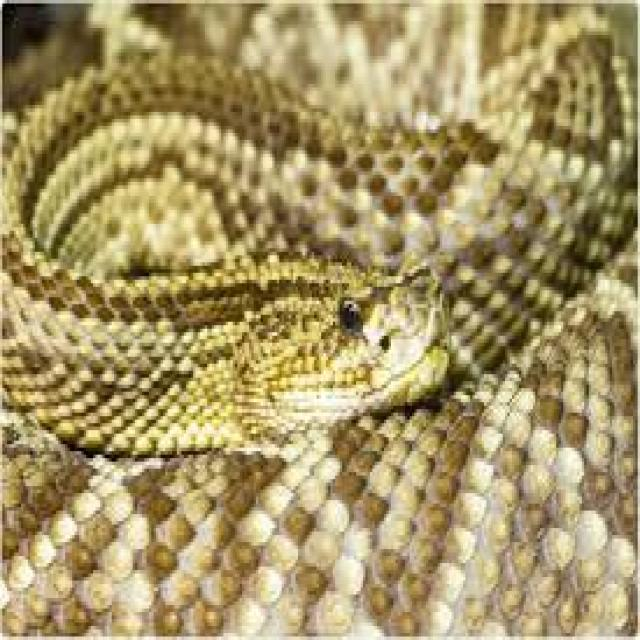Snake: (4, 7, 635, 636)
